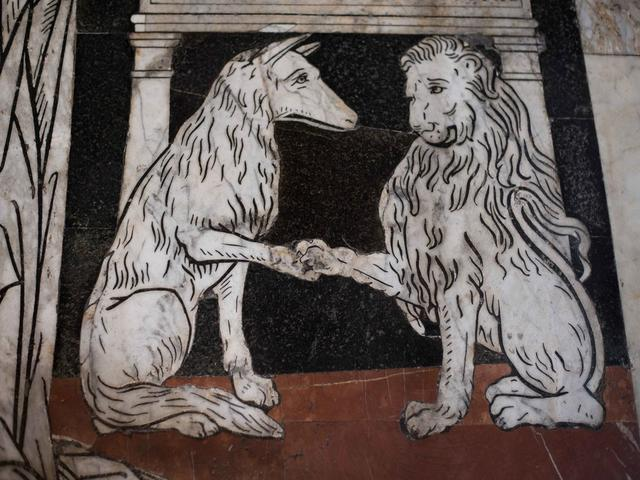lion: (208, 21, 614, 465)
